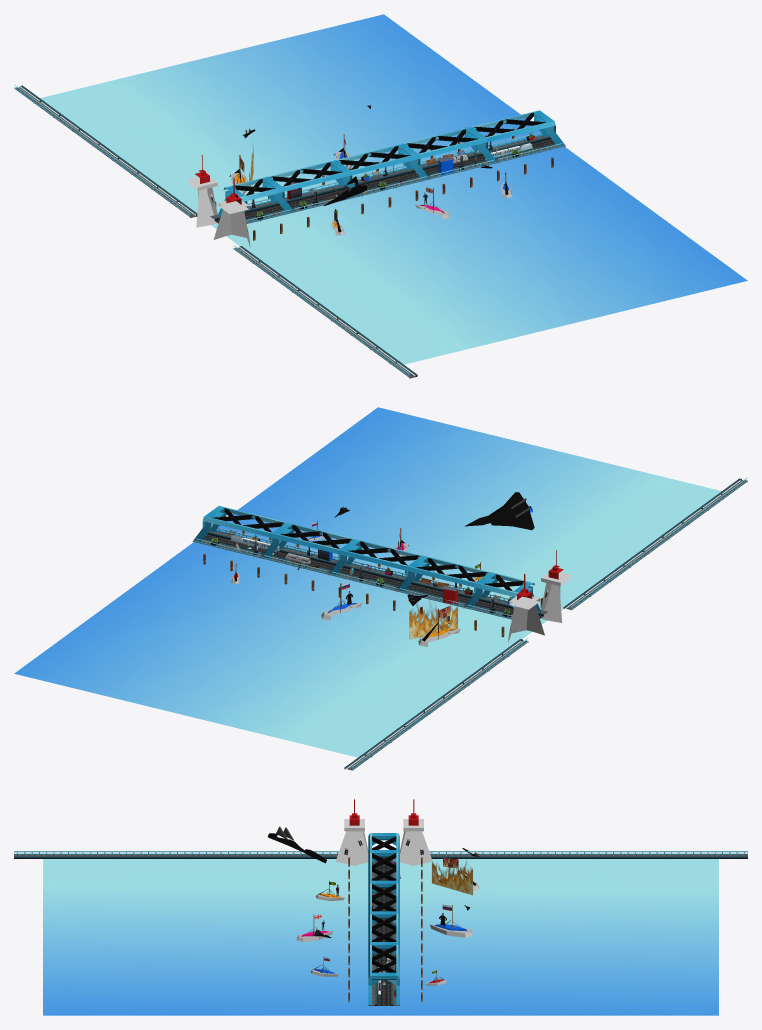
File: subwaysurferstest62.glb
3 views of the same model, one above another, from view 1: azimuth 30°, elevation 25°; view 2: azimuth 150°, elevation 25°; view 3: azimuth 270°, elevation 25° (orthographic). The views are drawn at different scales.
Visible parts, largest first — view 1: Water, Overpass.002, Overpass, Overpass.001, Overpass.003, lighttower, Overpass.004, lighttower.001; view 2: Water, Overpass.003, Overpass.002, Overpass, Overpass.001, Plane1.001, lighttower.001, Overpass.004, lighttower, Fire; view 3: Water, lighttower.001, lighttower, Overpass, Fire, Overpass.002, Overpass.001, Overpass.003, Overpass.004, Plane1.001, boat1.006.
Boxes of the visible parts, bbox=[...] form: Water: bbox=[40, 14, 747, 364]; Overpass.002: bbox=[337, 143, 429, 179]; Overpass: bbox=[472, 110, 565, 146]; Overpass.001: bbox=[404, 127, 497, 162]; Overpass.003: bbox=[269, 160, 361, 195]; lighttower: bbox=[213, 178, 250, 247]; Overpass.004: bbox=[217, 176, 293, 216]; lighttower.001: bbox=[187, 155, 217, 227]; Water: bbox=[14, 407, 721, 757]; Overpass.003: bbox=[396, 555, 489, 591]; Overpass.002: bbox=[328, 539, 421, 574]; Overpass: bbox=[193, 506, 286, 541]; Overpass.001: bbox=[261, 522, 353, 558]; Plane1.001: bbox=[464, 492, 534, 530]; lighttower.001: bbox=[508, 574, 544, 642]; Overpass.004: bbox=[464, 572, 541, 611]; lighttower: bbox=[541, 550, 571, 622]; Fire: bbox=[409, 603, 457, 639]; Water: bbox=[43, 859, 718, 1015]; lighttower.001: bbox=[400, 799, 432, 865]; lighttower: bbox=[335, 799, 368, 865]; Overpass: bbox=[368, 945, 399, 1004]; Fire: bbox=[432, 861, 472, 895]; Overpass.002: bbox=[368, 883, 399, 923]; Overpass.001: bbox=[368, 914, 399, 954]; Overpass.003: bbox=[368, 853, 399, 893]; Overpass.004: bbox=[368, 833, 399, 862]; Plane1.001: bbox=[267, 826, 326, 863]; boat1.006: bbox=[429, 904, 472, 937].
Bounding box in the file's own units: 424 × 87.32 × 808.
6 materials, 6 textured.
